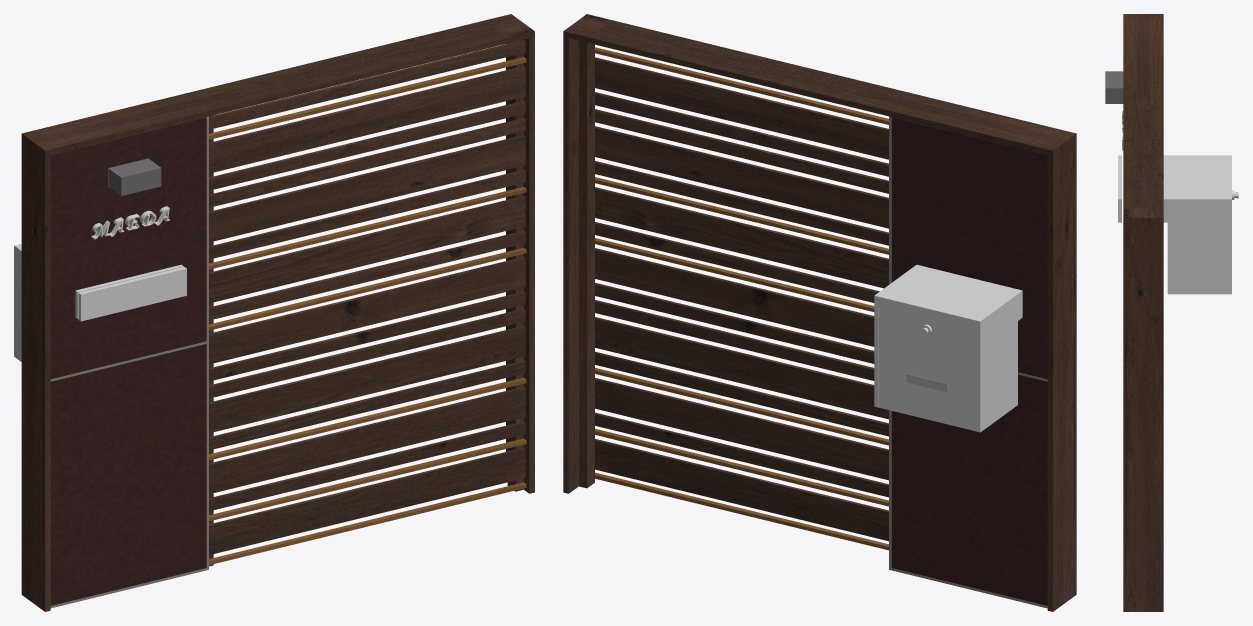
The model's file is ab48-m_rustycopper.fbx.
The picture shows the model from 3 angles, left to right: view 1: azimuth 30°, elevation 25°; view 2: azimuth 150°, elevation 25°; view 3: azimuth 270°, elevation 25°; orthographic projection. The views are drawn at different scales.
Visible parts, largest first — view 1: ab48-m_rustycopper; view 2: ab48-m_rustycopper; view 3: ab48-m_rustycopper.
Part boxes in pixels (left/top/right/bottom): ab48-m_rustycopper: left=14, top=14, right=534, bottom=611; ab48-m_rustycopper: left=563, top=14, right=1076, bottom=611; ab48-m_rustycopper: left=1105, top=14, right=1238, bottom=611.
Bounding box in the file's own units: 180 × 162 × 49.6.
10 materials, 4 textured.
